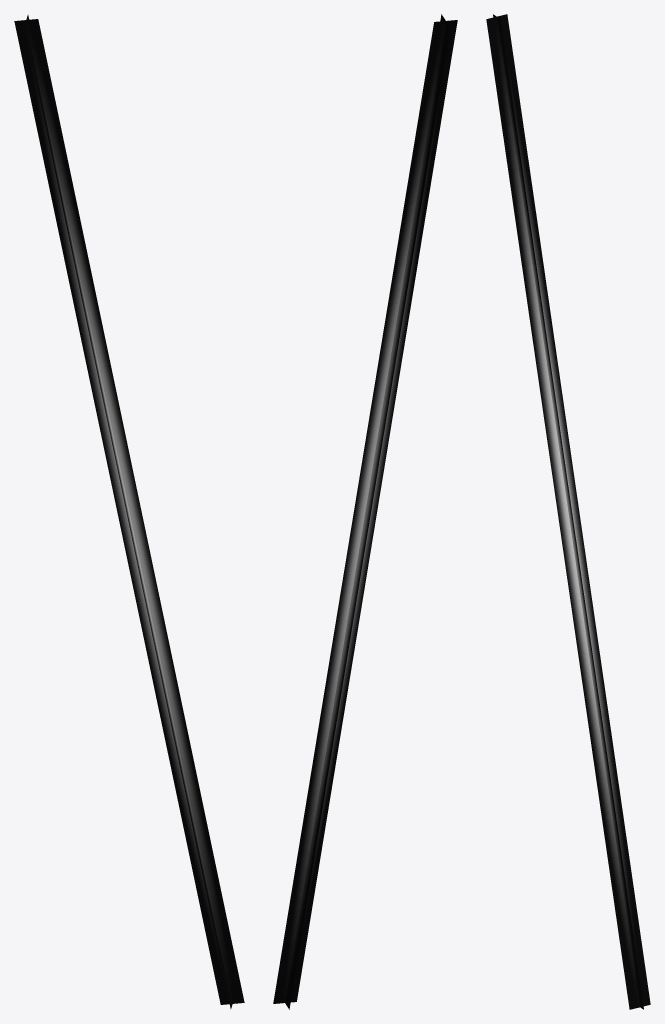
File: vfx_kurp_0796.dae
3 views of the same model, side by side, from view 1: azimuth 30°, elevation 25°; view 2: azimuth 150°, elevation 25°; view 3: azimuth 330°, elevation 25° (orthographic). The views are drawn at different scales.
Visible parts, largest first — view 1: vfx_kurp_0796; view 2: vfx_kurp_0796; view 3: vfx_kurp_0796.
Boxes of the visible parts, x1,y1,x2,y2 form: vfx_kurp_0796: (14, 14, 244, 1009); vfx_kurp_0796: (273, 14, 457, 1009); vfx_kurp_0796: (486, 14, 650, 1009).
Bounding box in the file's own units: 2.83 × 0.877 × 13.91.
1 material, 1 textured.
